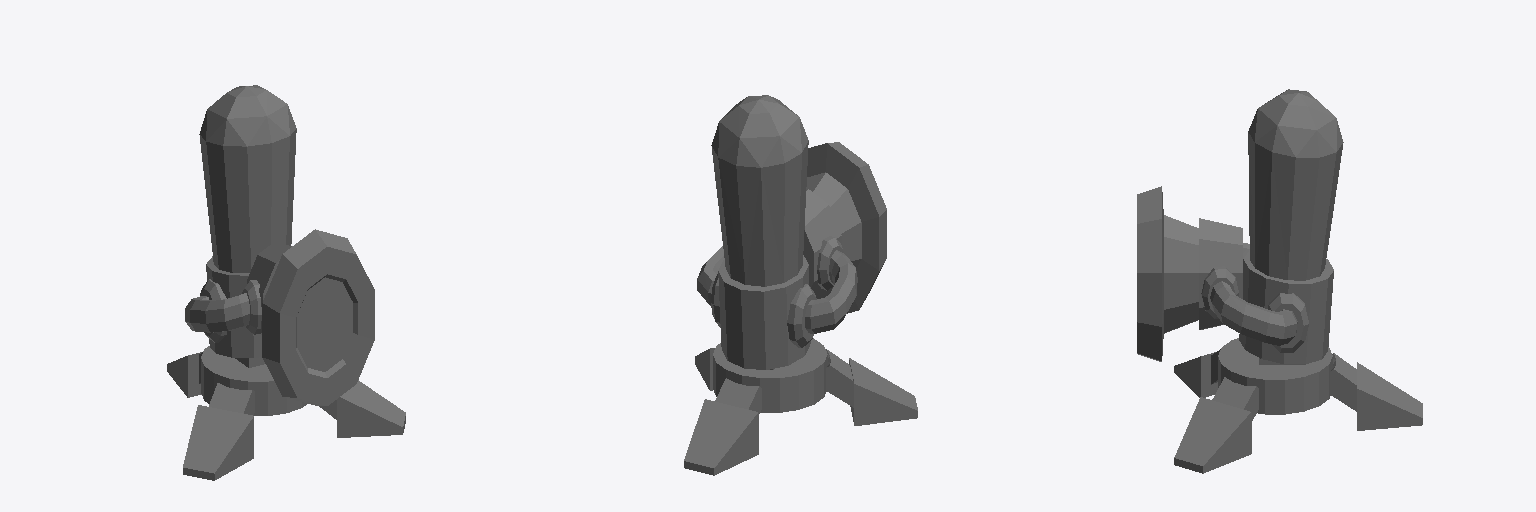
The model's file is Turret2.obj.
3 views of the same model, side by side, from view 1: azimuth 30°, elevation 25°; view 2: azimuth 150°, elevation 25°; view 3: azimuth 270°, elevation 25° (orthographic).
Parts seen in each view (by area): view 1: Model_Mesh; view 2: Model_Mesh; view 3: Model_Mesh.
Boxes of the visible parts, x1,y1,x2,y2 form: Model_Mesh: [167, 85, 405, 480]; Model_Mesh: [684, 95, 917, 475]; Model_Mesh: [1137, 89, 1422, 473].
Size of the model in its own units: 1.45 by 2.02 by 1.6.